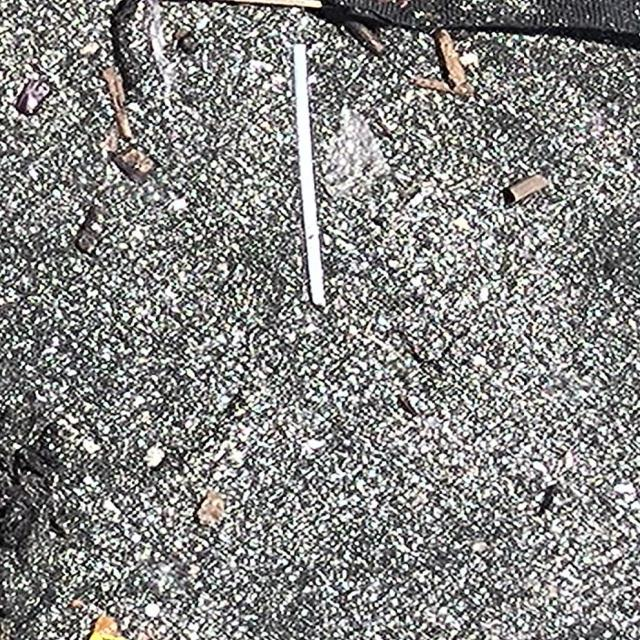plastic_waste: (290, 39, 332, 314)
